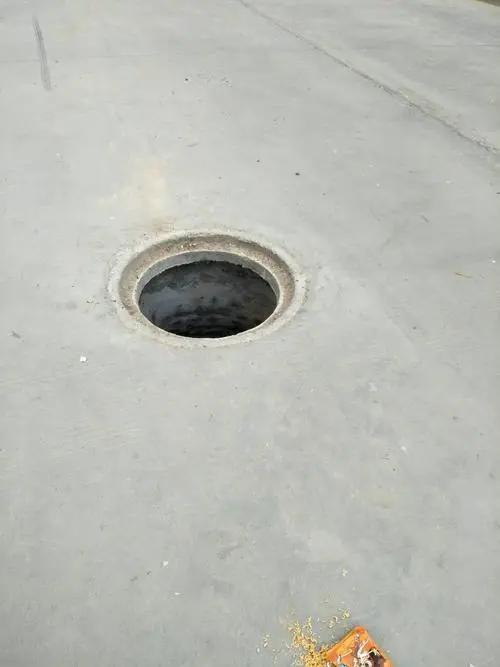wellcover: (102, 214, 307, 344)
